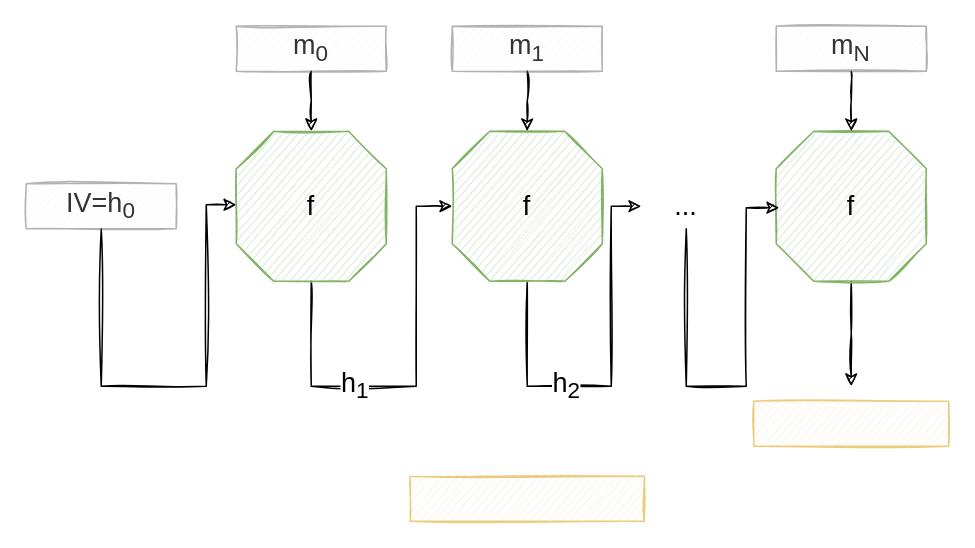
Some shapes in this 975 by 548 pixel diagram are drawn without their labels. The shapes that lost their labels are listed below. From the top down, each one's centre as x and y in pixels, then its label:
the point at 850,423: h N+1 = H(m)
the point at 526,498: h i =f(h i-1 , m i-1 )
